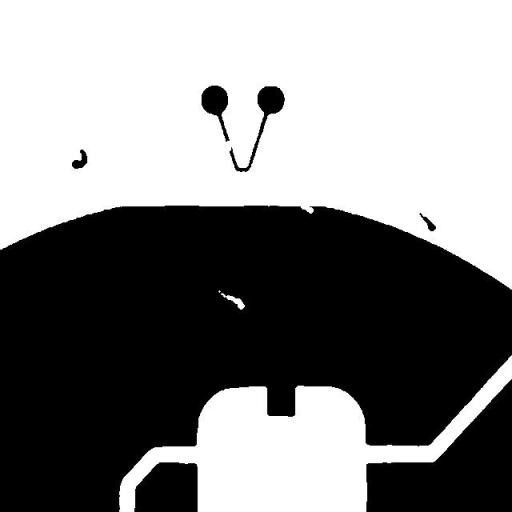copper: (411, 205, 443, 238), (64, 142, 94, 176)
mousebite: (293, 196, 321, 221)
open: (218, 133, 239, 159)
pin-hole: (210, 282, 252, 317)
